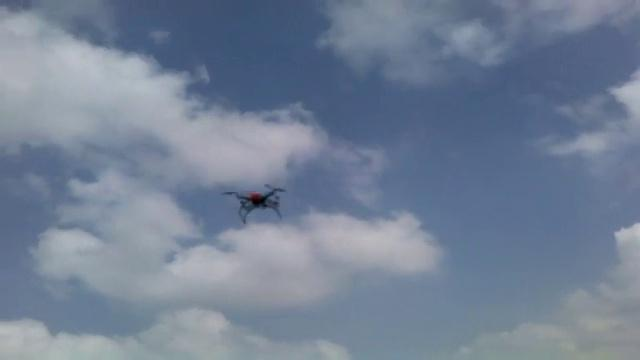drone: (220, 182, 286, 223)
